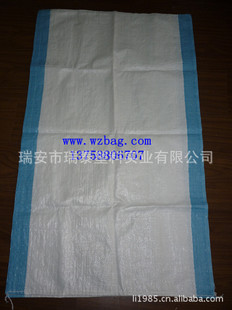Parcel: (6, 10, 223, 301)
